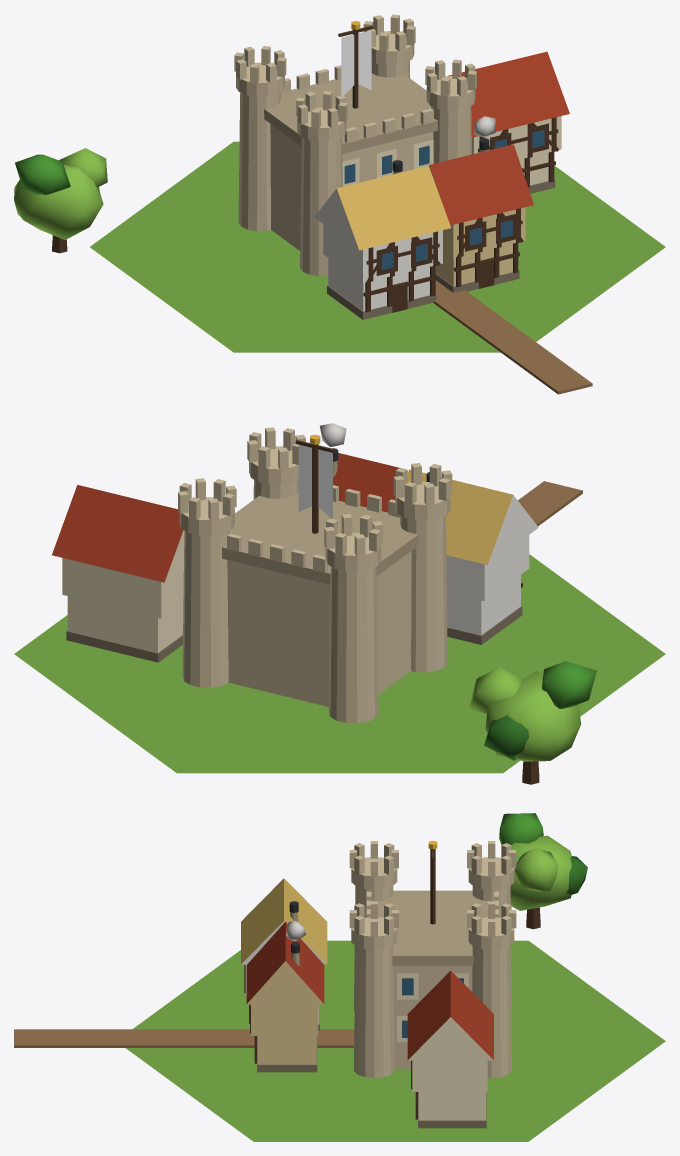
The model's file is city_1_1.fbx.
3 renders of one model, top to bottom at view 1: azimuth 30°, elevation 25°; view 2: azimuth 150°, elevation 25°; view 3: azimuth 270°, elevation 25°, orthographic. The views are drawn at different scales.
Visible parts, largest first — view 1: city_1_1; view 2: city_1_1; view 3: city_1_1.
Boxes of the visible parts, x1,y1,x2,y2 form: city_1_1: [14, 14, 665, 394]; city_1_1: [14, 423, 665, 784]; city_1_1: [14, 813, 665, 1141].
Bounding box in the file's own units: 212 × 83.6 × 249.
